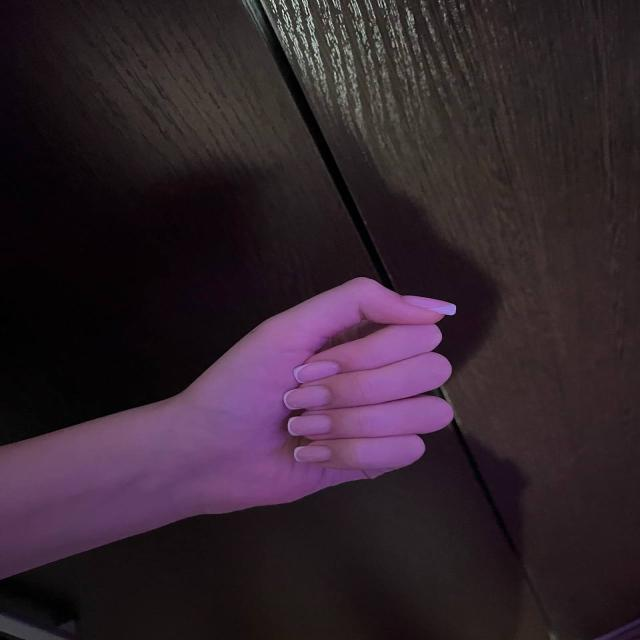a: (182, 272, 467, 502)
